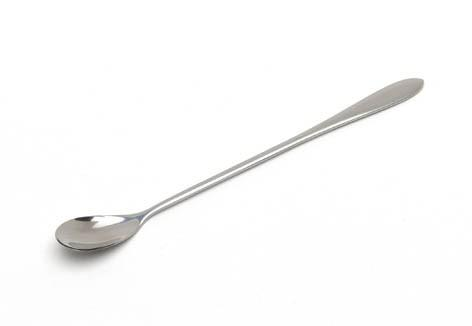Spoon: (55, 77, 424, 251)
